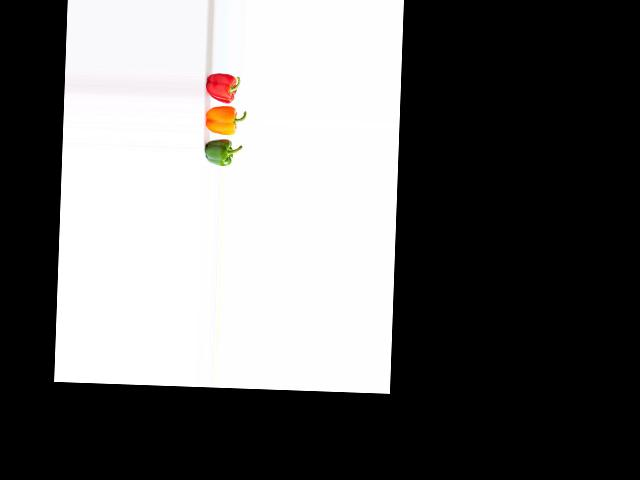bell_pepper: (206, 70, 247, 104)
